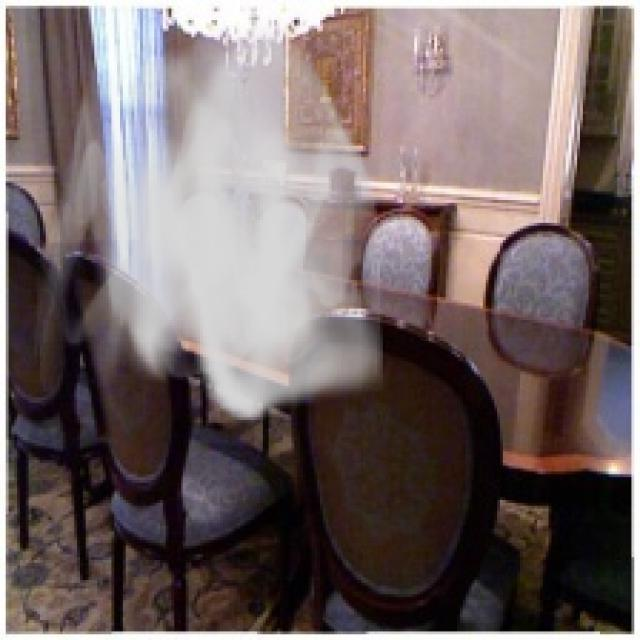Smoke: (32, 14, 394, 426)
